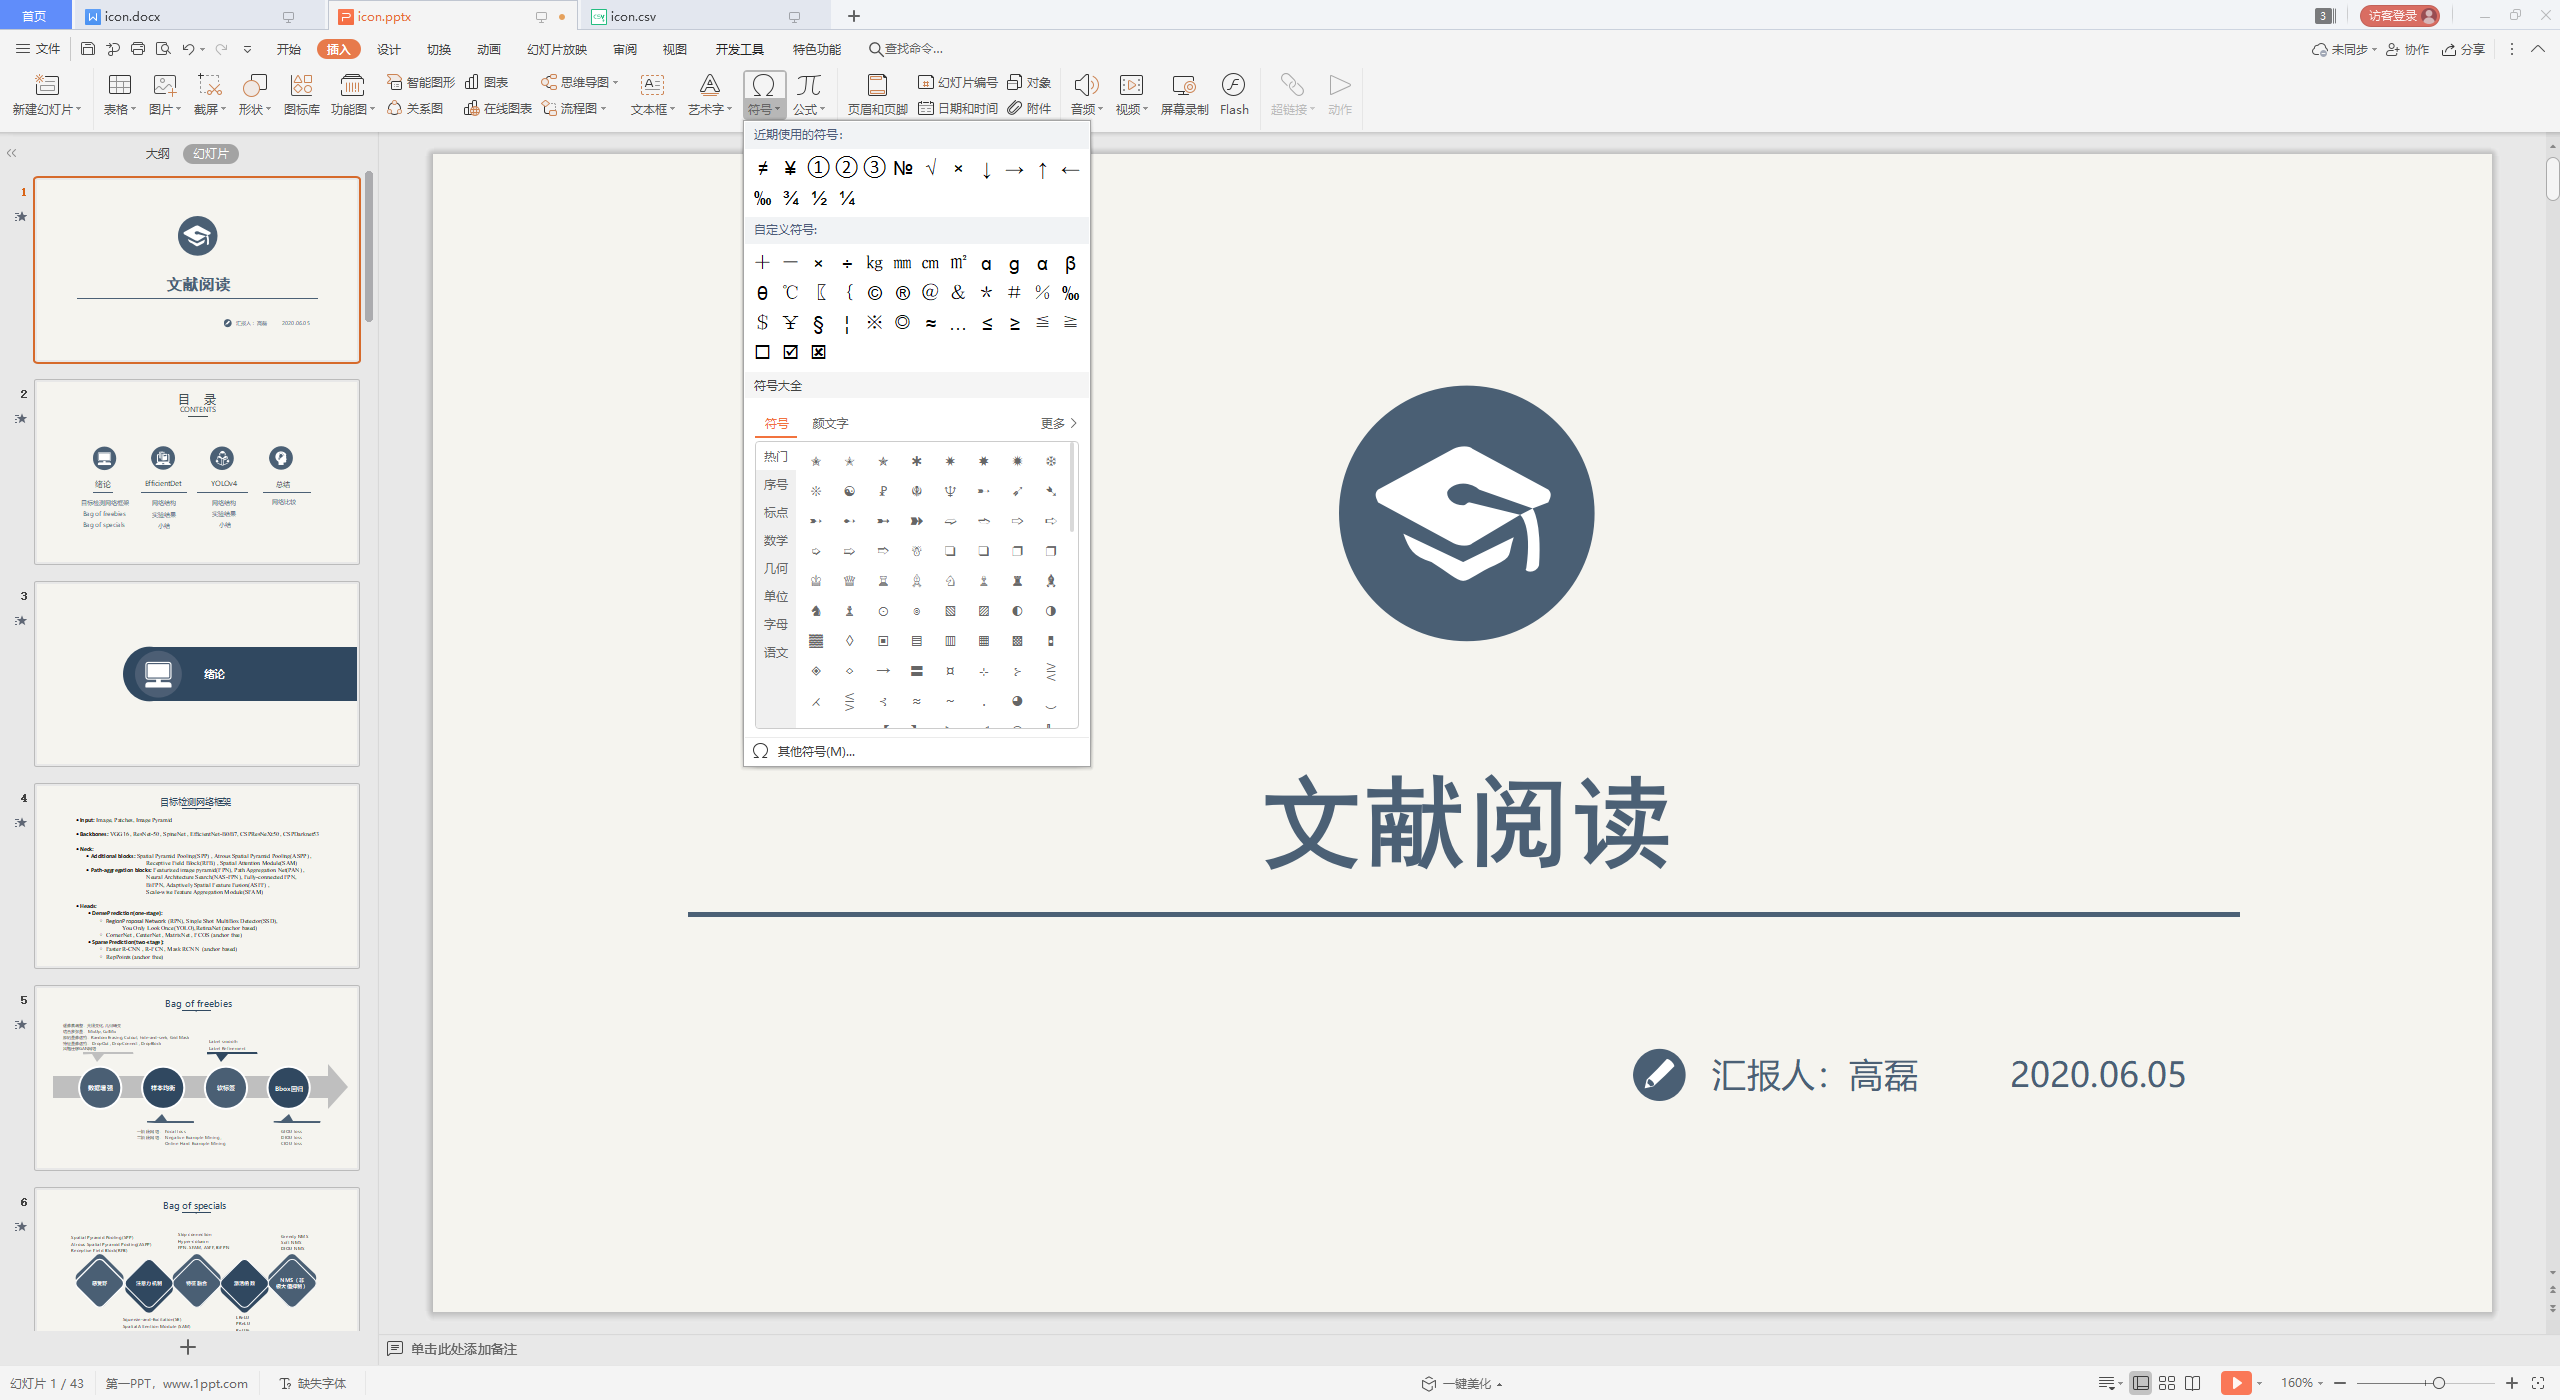character: (1252, 771, 1677, 881), (1993, 1052, 2203, 1095), (1712, 1055, 1920, 1098), (102, 1376, 255, 1393), (410, 1341, 531, 1359), (752, 128, 845, 145), (776, 743, 859, 760), (748, 374, 807, 397), (7, 1376, 86, 1391), (271, 1376, 350, 1391), (750, 221, 821, 238), (845, 102, 910, 117), (936, 76, 1002, 91), (526, 41, 590, 57), (784, 41, 848, 57), (884, 41, 948, 57), (938, 100, 1002, 116), (103, 9, 164, 24), (714, 41, 765, 59), (1158, 102, 1210, 119), (355, 10, 415, 24), (10, 102, 71, 116), (609, 9, 659, 24), (483, 102, 534, 116), (809, 414, 850, 431), (405, 76, 455, 90), (190, 145, 233, 160), (560, 76, 609, 90), (2367, 9, 2415, 22), (1441, 1378, 1491, 1390), (283, 102, 321, 117), (328, 102, 365, 117), (407, 102, 446, 116), (1026, 98, 1057, 116), (2332, 41, 2367, 57), (560, 102, 598, 116), (629, 103, 667, 117), (683, 102, 721, 116), (1215, 103, 1253, 117), (1271, 103, 1308, 117), (1026, 76, 1057, 91), (1038, 416, 1064, 433), (660, 41, 688, 57), (764, 416, 791, 431), (764, 476, 791, 491), (760, 503, 788, 519), (762, 533, 790, 548), (762, 560, 790, 576), (762, 588, 790, 603), (760, 617, 788, 633), (762, 643, 790, 659), (2458, 41, 2488, 55), (21, 9, 47, 24), (34, 40, 60, 55), (326, 41, 352, 57), (376, 41, 402, 57), (426, 43, 452, 59), (147, 102, 172, 117), (612, 41, 638, 57), (484, 74, 510, 90), (790, 102, 815, 117), (1069, 102, 1095, 117), (764, 448, 790, 464), (2281, 1376, 2313, 1388), (236, 102, 264, 116), (1326, 103, 1353, 117), (276, 41, 302, 55), (102, 102, 128, 116), (476, 41, 502, 55), (191, 102, 217, 116), (746, 103, 772, 117), (1114, 102, 1140, 116), (147, 147, 172, 160), (2405, 43, 2432, 55), (17, 384, 29, 402), (17, 586, 29, 602), (17, 790, 29, 805), (17, 991, 29, 1007), (17, 1193, 29, 1209), (19, 183, 29, 198)
icon: (47, 779, 364, 971), (36, 176, 359, 364), (36, 579, 359, 767), (34, 986, 360, 1171), (34, 379, 362, 562), (34, 1186, 357, 1340), (1372, 440, 1550, 602), (1641, 1055, 1672, 1097), (743, 71, 784, 100), (141, 660, 172, 690), (2219, 1369, 2253, 1395), (1071, 71, 1102, 98), (1219, 69, 1248, 97), (1169, 71, 1198, 98), (803, 152, 831, 179), (1115, 72, 1146, 97), (795, 72, 822, 98), (1279, 71, 1307, 97), (197, 71, 222, 97), (340, 72, 365, 98), (107, 72, 133, 97), (241, 72, 267, 97), (290, 71, 314, 97), (152, 72, 178, 97), (865, 71, 890, 97), (833, 155, 859, 179), (1326, 72, 1352, 97), (2127, 1371, 2153, 1395), (640, 72, 664, 97), (698, 71, 721, 97), (862, 155, 886, 178), (2181, 1371, 2203, 1395), (2155, 1371, 2179, 1393), (891, 155, 915, 178), (34, 74, 59, 95), (779, 157, 802, 178), (948, 159, 971, 179), (779, 252, 802, 272), (810, 281, 833, 302), (948, 283, 971, 303), (865, 312, 888, 333), (1060, 279, 1079, 303), (2313, 5, 2338, 24), (864, 252, 884, 272), (750, 740, 771, 760), (753, 157, 774, 178), (752, 252, 772, 272), (809, 252, 829, 272), (838, 252, 859, 272), (893, 252, 914, 272), (921, 252, 941, 272), (948, 250, 969, 271), (781, 281, 802, 302), (840, 281, 860, 302), (807, 314, 827, 334), (836, 314, 857, 334), (948, 317, 969, 338), (1003, 160, 1026, 179), (915, 98, 936, 117), (976, 159, 995, 179), (922, 155, 941, 176), (1033, 160, 1052, 181), (2419, 5, 2439, 24), (1043, 697, 1064, 716), (384, 72, 403, 91), (540, 98, 559, 117), (915, 72, 934, 91), (1003, 72, 1022, 91), (753, 186, 772, 205), (921, 283, 940, 302), (840, 691, 859, 710), (178, 1336, 197, 1355), (2096, 1372, 2115, 1391), (783, 186, 802, 205), (810, 188, 829, 207), (840, 188, 859, 207), (977, 255, 995, 276), (540, 72, 559, 90), (590, 9, 609, 26), (1005, 98, 1024, 116), (893, 284, 912, 302), (1033, 283, 1052, 300), (1060, 160, 1079, 178), (907, 662, 926, 679), (384, 1340, 403, 1357), (1003, 257, 1021, 276), (1060, 255, 1077, 274), (977, 283, 995, 302), (1007, 283, 1024, 302), (979, 316, 996, 334), (1007, 316, 1024, 334), (841, 452, 857, 472), (876, 452, 891, 472), (907, 450, 922, 471), (976, 481, 991, 502), (1010, 510, 1026, 531), (384, 98, 402, 116), (103, 40, 121, 57), (462, 72, 479, 90), (464, 98, 481, 116), (867, 40, 884, 57), (865, 284, 883, 302), (753, 314, 771, 331), (1420, 1374, 1438, 1391), (2503, 1374, 2520, 1391), (1067, 416, 1084, 433), (809, 662, 826, 679), (908, 691, 926, 709), (941, 452, 957, 471), (976, 452, 991, 471), (1010, 452, 1026, 471), (1010, 483, 1026, 502), (1045, 662, 1058, 683), (79, 40, 97, 55), (336, 9, 353, 24), (153, 40, 171, 55), (84, 9, 102, 24), (14, 40, 31, 55), (3, 143, 19, 160), (12, 410, 29, 426), (1034, 314, 1052, 329), (783, 345, 800, 360), (941, 602, 958, 617), (807, 633, 824, 648), (809, 602, 826, 617), (12, 814, 29, 829), (12, 1217, 28, 1234), (2529, 1374, 2546, 1390), (783, 314, 798, 331), (810, 345, 827, 360), (841, 602, 859, 617), (809, 695, 826, 710), (977, 510, 991, 529), (129, 40, 145, 55), (895, 314, 910, 329), (2441, 41, 2457, 57), (2384, 41, 2400, 57), (2312, 41, 2327, 57), (12, 612, 28, 628), (908, 572, 924, 588), (908, 512, 924, 528), (1010, 602, 1026, 617), (943, 512, 958, 528), (2431, 1374, 2446, 1390), (924, 314, 940, 329), (1064, 314, 1079, 329), (179, 41, 197, 55), (753, 345, 771, 359), (2505, 38, 2519, 55), (14, 1016, 28, 1033), (809, 484, 826, 498), (807, 516, 824, 529), (14, 209, 28, 224), (846, 7, 860, 22), (2507, 7, 2522, 21), (908, 633, 924, 647), (976, 603, 991, 617), (976, 633, 991, 647), (941, 633, 957, 647), (941, 543, 957, 557), (841, 572, 857, 586), (876, 662, 891, 676), (976, 543, 990, 559), (943, 572, 958, 586), (841, 514, 857, 528), (1046, 483, 1060, 498), (1045, 603, 1058, 619), (945, 664, 960, 678), (943, 695, 958, 709), (807, 545, 824, 557), (214, 41, 228, 55), (534, 10, 548, 24), (2531, 41, 2544, 55), (2477, 9, 2491, 22), (2539, 7, 2553, 21), (876, 633, 890, 647), (843, 483, 857, 497), (876, 572, 890, 586), (1010, 543, 1024, 557), (1043, 453, 1057, 467), (2332, 1376, 2346, 1390), (877, 484, 891, 498), (910, 484, 924, 498), (943, 484, 957, 498), (877, 514, 891, 528), (1045, 514, 1058, 528), (810, 572, 824, 586), (1010, 572, 1024, 586), (1045, 545, 1058, 559), (807, 455, 822, 467), (281, 10, 295, 22), (367, 102, 379, 116), (788, 10, 802, 22), (1036, 259, 1048, 272), (2546, 138, 2558, 152), (1010, 634, 1024, 647), (877, 603, 890, 617), (977, 574, 990, 588), (2420, 1376, 2432, 1390), (1046, 574, 1058, 588), (1046, 634, 1058, 648), (2546, 1302, 2558, 1316), (241, 43, 253, 55), (555, 10, 567, 22), (843, 545, 855, 557), (845, 634, 857, 647), (977, 666, 990, 678), (1493, 1378, 1505, 1390), (1012, 666, 1024, 678), (977, 700, 990, 712), (876, 545, 890, 555), (2315, 1376, 2326, 1390), (2370, 41, 2381, 55), (757, 284, 765, 300), (610, 76, 621, 88), (910, 545, 922, 555), (910, 605, 922, 616), (877, 695, 888, 707), (129, 102, 140, 114), (265, 102, 276, 114), (2548, 1266, 2558, 1278), (2546, 1284, 2558, 1295), (2255, 1376, 2263, 1390), (222, 317, 233, 328), (1012, 695, 1022, 705), (845, 666, 855, 676), (198, 45, 209, 55), (74, 102, 83, 114), (598, 102, 607, 114), (726, 102, 734, 114), (176, 102, 184, 114), (219, 102, 228, 114), (669, 103, 677, 116), (774, 102, 783, 114), (1096, 103, 1105, 116), (1141, 103, 1150, 116), (1310, 103, 1319, 116), (821, 102, 827, 114), (2119, 1378, 2124, 1390)
